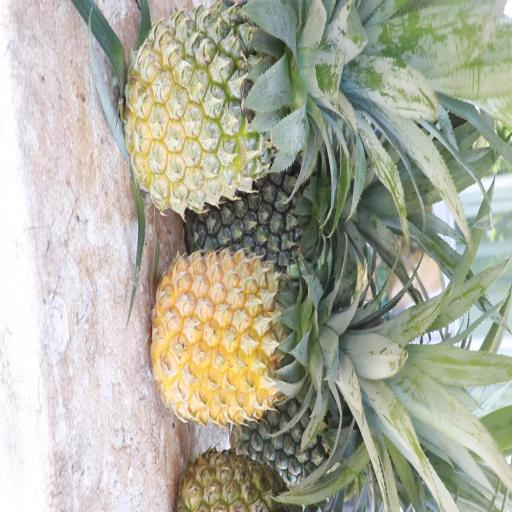------------------------------: (130, 4, 304, 209)
Pineapple - v8 v1: (156, 250, 322, 426)
